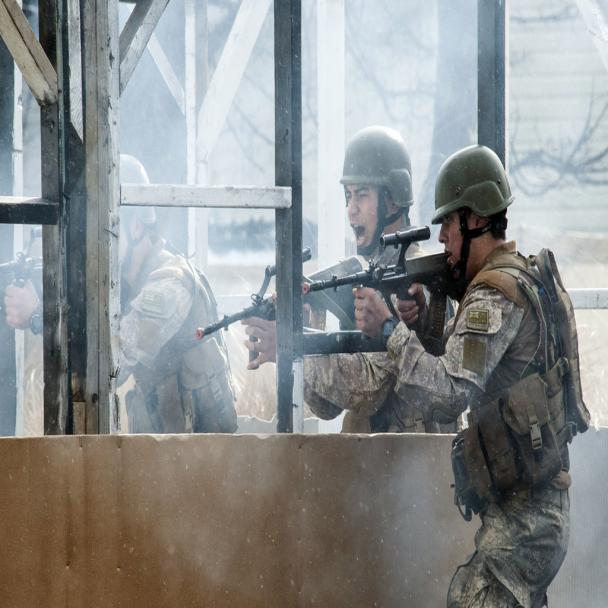Gun: (180, 204, 450, 365)
